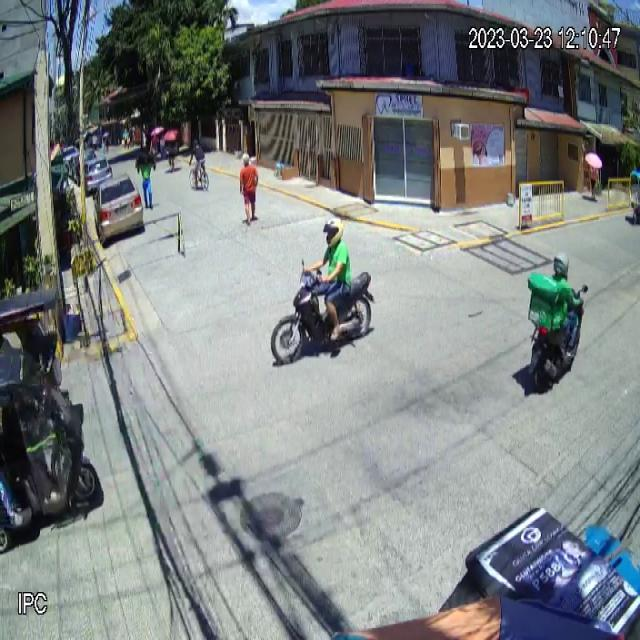Car: (94, 173, 143, 243)
Motorcycle: (269, 258, 377, 368), (528, 283, 590, 393)
